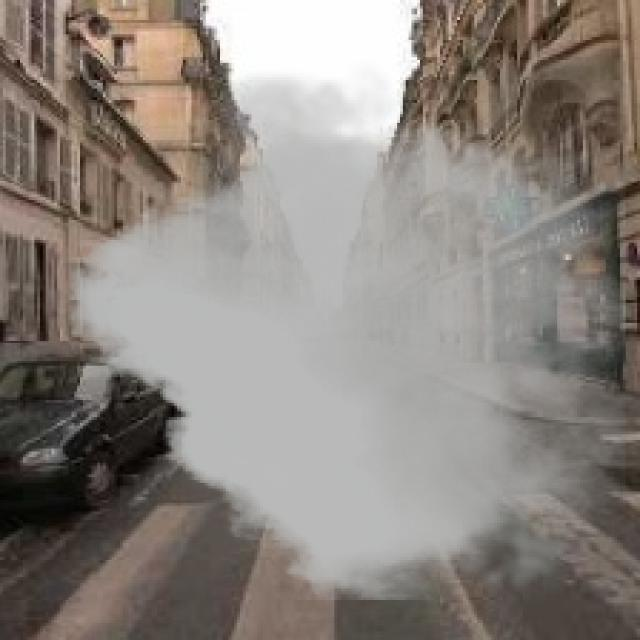smoke: (69, 60, 626, 609)
